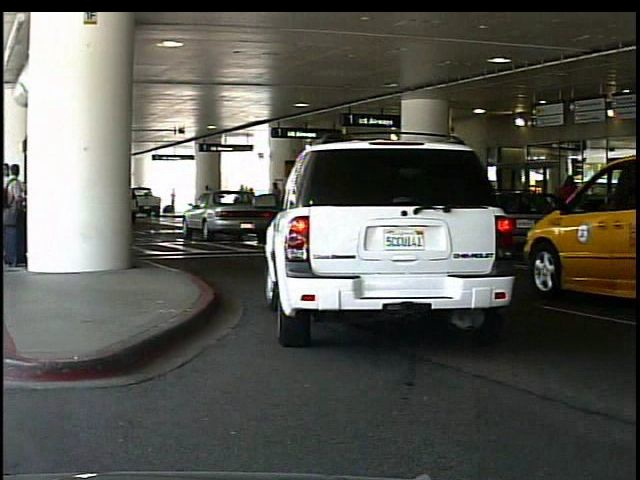person: (556, 171, 585, 257), (171, 187, 179, 214)
